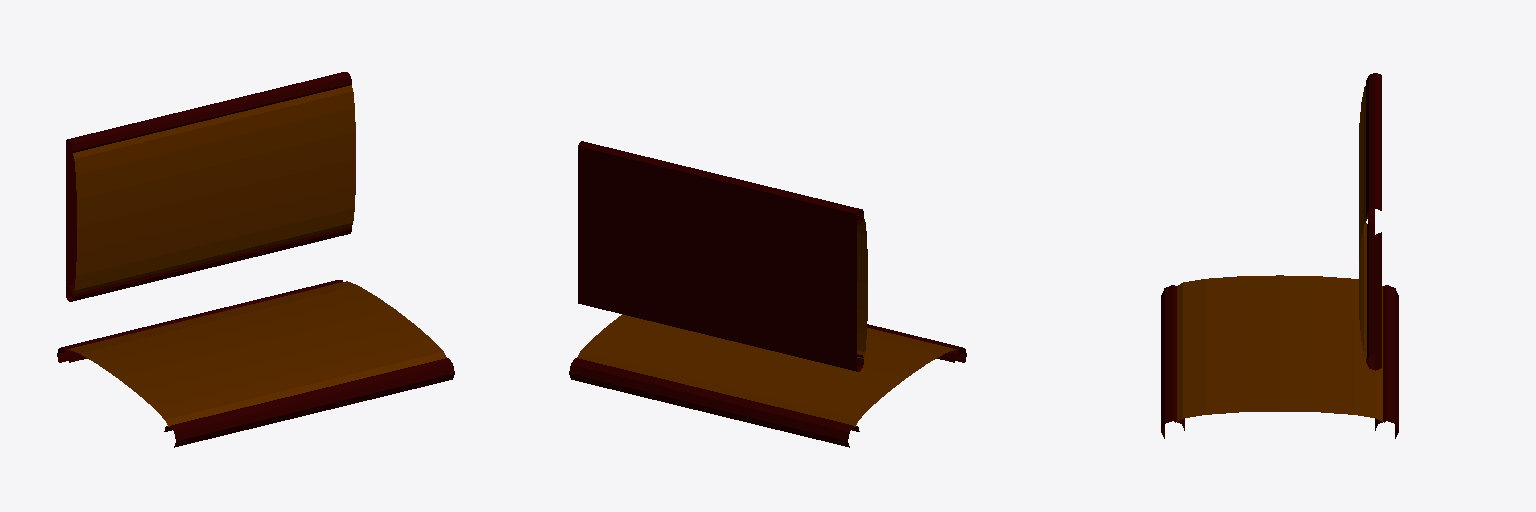
File: renessaince_sofa_middle.obj
3 views of the same model, side by side, from view 1: azimuth 30°, elevation 25°; view 2: azimuth 150°, elevation 25°; view 3: azimuth 270°, elevation 25° (orthographic).
Parts seen in each view (by area): view 1: renessaince_sofa_middle; view 2: renessaince_sofa_middle; view 3: renessaince_sofa_middle.
Part boxes in pixels (x1,y1,x2,y2): renessaince_sofa_middle: (57,72,454,447); renessaince_sofa_middle: (569,141,966,447); renessaince_sofa_middle: (1161,73,1398,438).
Size of the model in its own units: 100 by 79.04 by 73.76.